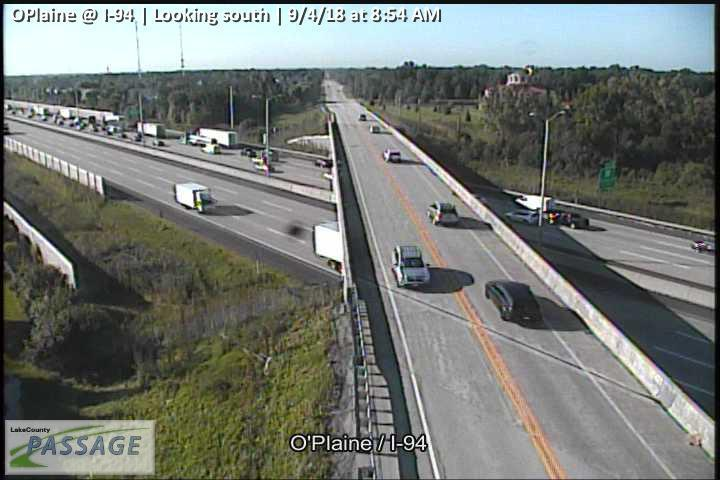SUV: (484, 278, 540, 324), (503, 206, 538, 223)
Sedan: (427, 198, 459, 225), (382, 147, 403, 162)
Truck: (390, 242, 432, 289), (172, 180, 219, 213)
